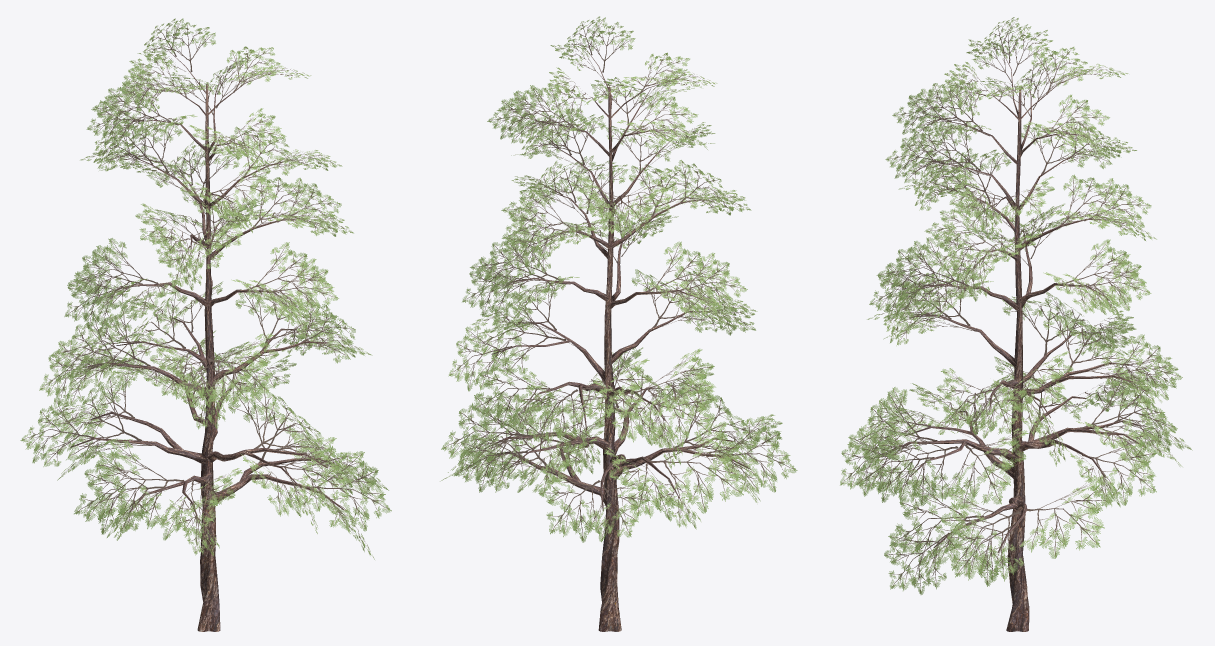
Rendered from pine.glb.
3 renders of one model, left to right at view 1: azimuth 30°, elevation 25°; view 2: azimuth 150°, elevation 25°; view 3: azimuth 270°, elevation 25°, orthographic.
Visible parts, largest first — view 1: tree.003; view 2: tree.003; view 3: tree.003.
Part boxes in pixels (x1=…): tree.003: x1=20, y1=18, x2=391, y2=631; tree.003: x1=440, y1=16, x2=797, y2=631; tree.003: x1=840, y1=17, x2=1192, y2=631.
Size of the model in its own units: 198 by 361 by 207.
2 materials, 2 textured.
